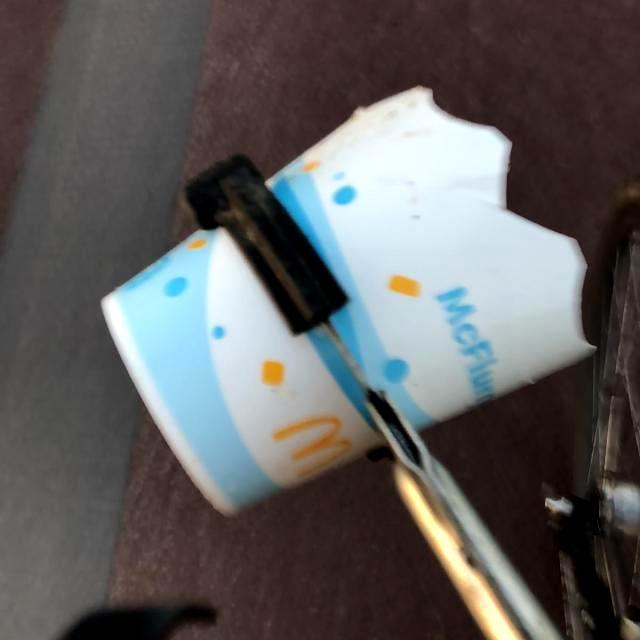Paper: (95, 78, 602, 526)
